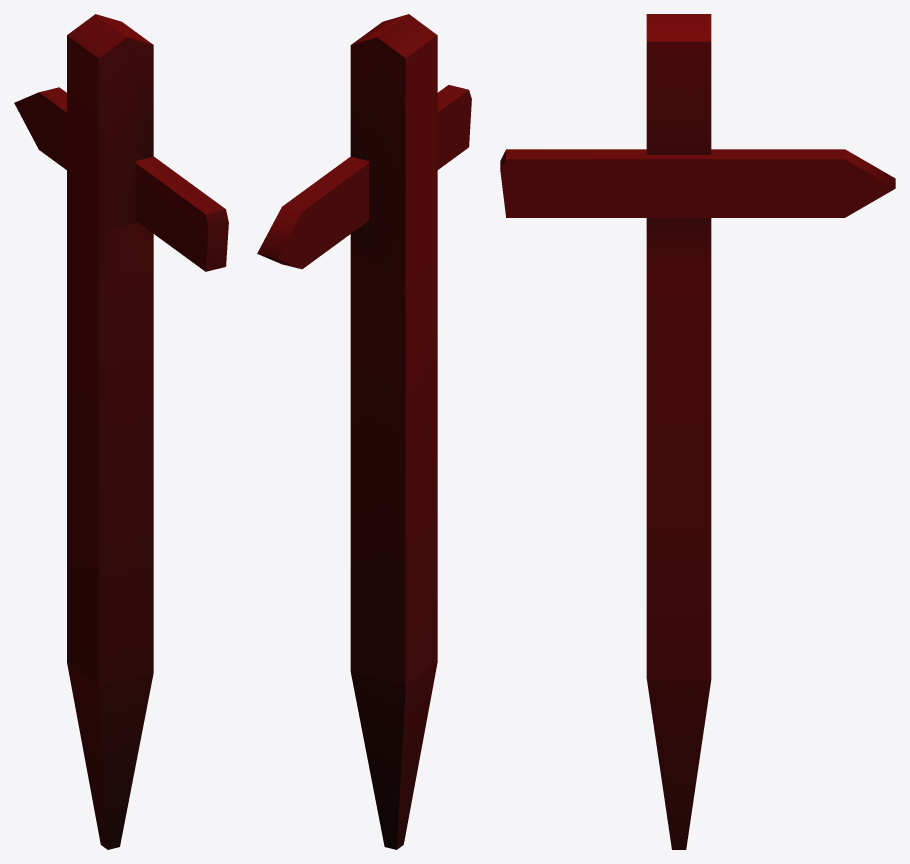
File: WoodenSignPost002.glb
3 views of the same model, side by side, from view 1: azimuth 30°, elevation 25°; view 2: azimuth 150°, elevation 25°; view 3: azimuth 270°, elevation 25° (orthographic).
Visible parts, largest first — view 1: WoodenSignPost002; view 2: WoodenSignPost002; view 3: WoodenSignPost002.
Part boxes in pixels (x1,y1,x2,y2): WoodenSignPost002: [14, 14, 228, 849]; WoodenSignPost002: [257, 14, 471, 849]; WoodenSignPost002: [500, 14, 895, 849].
Size of the model in its own units: 1.2 by 16.17 by 6.95.
